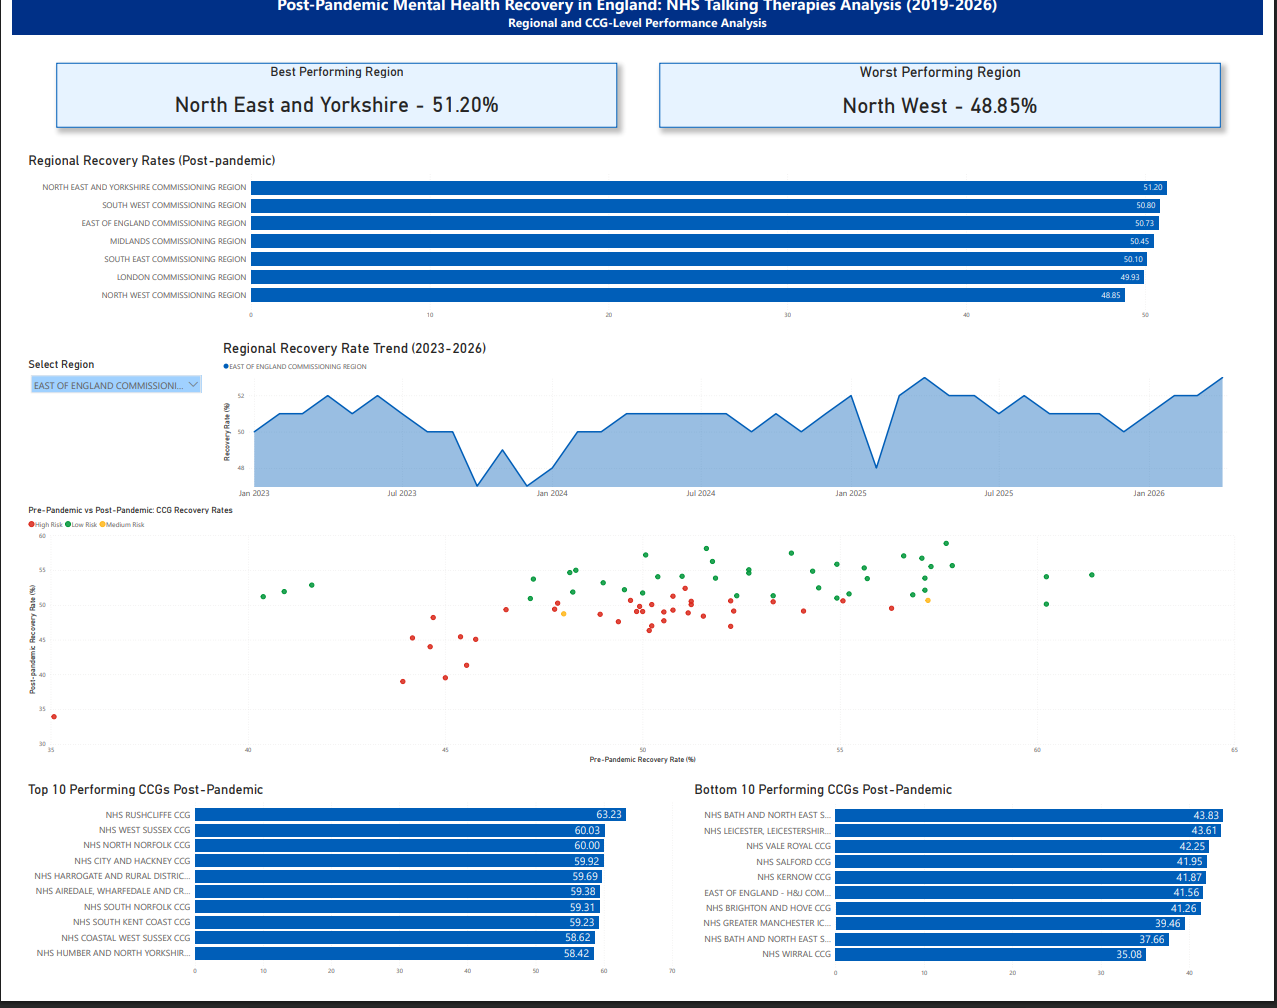

What the dashboard file says about the page in this screenshot:
{"tool":"powerbi","page":{"name":"Geographic Analysis","canvas":[2500,2000],"ordinal":2},"visuals":[{"type":"card","title":"Best Performing Region","fields":{"Values":["ccg_recovery.Best Region"]},"box":[89.1,145.7,1121.3,129.5],"z":0},{"type":"card","title":"Worst Performing Region","fields":{"Values":["ccg_recovery.Worst Region"]},"box":[1295.4,145.7,1121.3,129.5],"z":1000},{"type":"textbox","box":[0,0,2501.7,89.1],"z":2000},{"type":"lineChart","title":"Regional Recovery Rate Trend (2023-2026)","fields":{"Y":["Avg(regional_all_periods.recovery_rate)"],"Category":["regional_all_periods.period_start"],"Series":["regional_all_periods.org_name"]},"box":[417,700.3,2040.2,327.9],"z":3000},{"type":"clusteredBarChart","title":"Regional Recovery Rates (Post-pandemic)","fields":{"Category":["regional_recovery.org_name"],"Y":["Avg(regional_recovery.recovery_rate)"]},"box":[28.3,323.8,2428.8,344.1],"z":4000},{"type":"slicer","title":"Select Region","fields":{"Values":["regional_all_periods.org_name"]},"box":[28.3,736.2,360,283.1],"z":5000},{"type":"scatterChart","title":"Pre-Pandemic vs Post-Pandemic: CCG Recovery Rates","fields":{"Y":["ccg_risk_scores.recovery_period_rate"],"Series":["ccg_risk_scores.risk_category"],"X":["ccg_risk_scores.pre_pandemic_recovery_rate"]},"box":[28.1,1028.9,2428.8,522.9],"z":6000},{"type":"clusteredBarChart","title":"Top 10 Performing CCGs Post-Pandemic ","fields":{"Y":["Avg(ccg_avg_by_period.avg_recovery_rate)"],"Category":["ccg_avg_by_period.org_name"]},"box":[27.5,1582.5,1304.5,397.1],"z":7000},{"type":"clusteredBarChart","title":"Bottom 10 Performing CCGs Post-Pandemic ","fields":{"Y":["Avg(ccg_avg_by_period.avg_recovery_rate)"],"Category":["ccg_avg_by_period.org_name"]},"box":[1360,1582.5,1095,400],"z":8000}]}

Visuals, with their boxes in screenshot pixels (x1, y1, x2, y2), scaled from the page's 2500x2000 canvas onto the 1277x1008 screenshot:
"Best Performing Region" card: detection(46, 73, 618, 139)
"Worst Performing Region" card: detection(662, 73, 1234, 139)
textbox: detection(0, 0, 1276, 45)
"Regional Recovery Rate Trend (2023-2026)" lineChart: detection(213, 353, 1255, 518)
"Regional Recovery Rates (Post-pandemic)" clusteredBarChart: detection(14, 163, 1255, 337)
"Select Region" slicer: detection(14, 371, 198, 514)
"Pre-Pandemic vs Post-Pandemic: CCG Recovery Rates" scatterChart: detection(14, 519, 1255, 782)
"Top 10 Performing CCGs Post-Pandemic " clusteredBarChart: detection(14, 798, 680, 998)
"Bottom 10 Performing CCGs Post-Pandemic " clusteredBarChart: detection(695, 798, 1254, 999)
